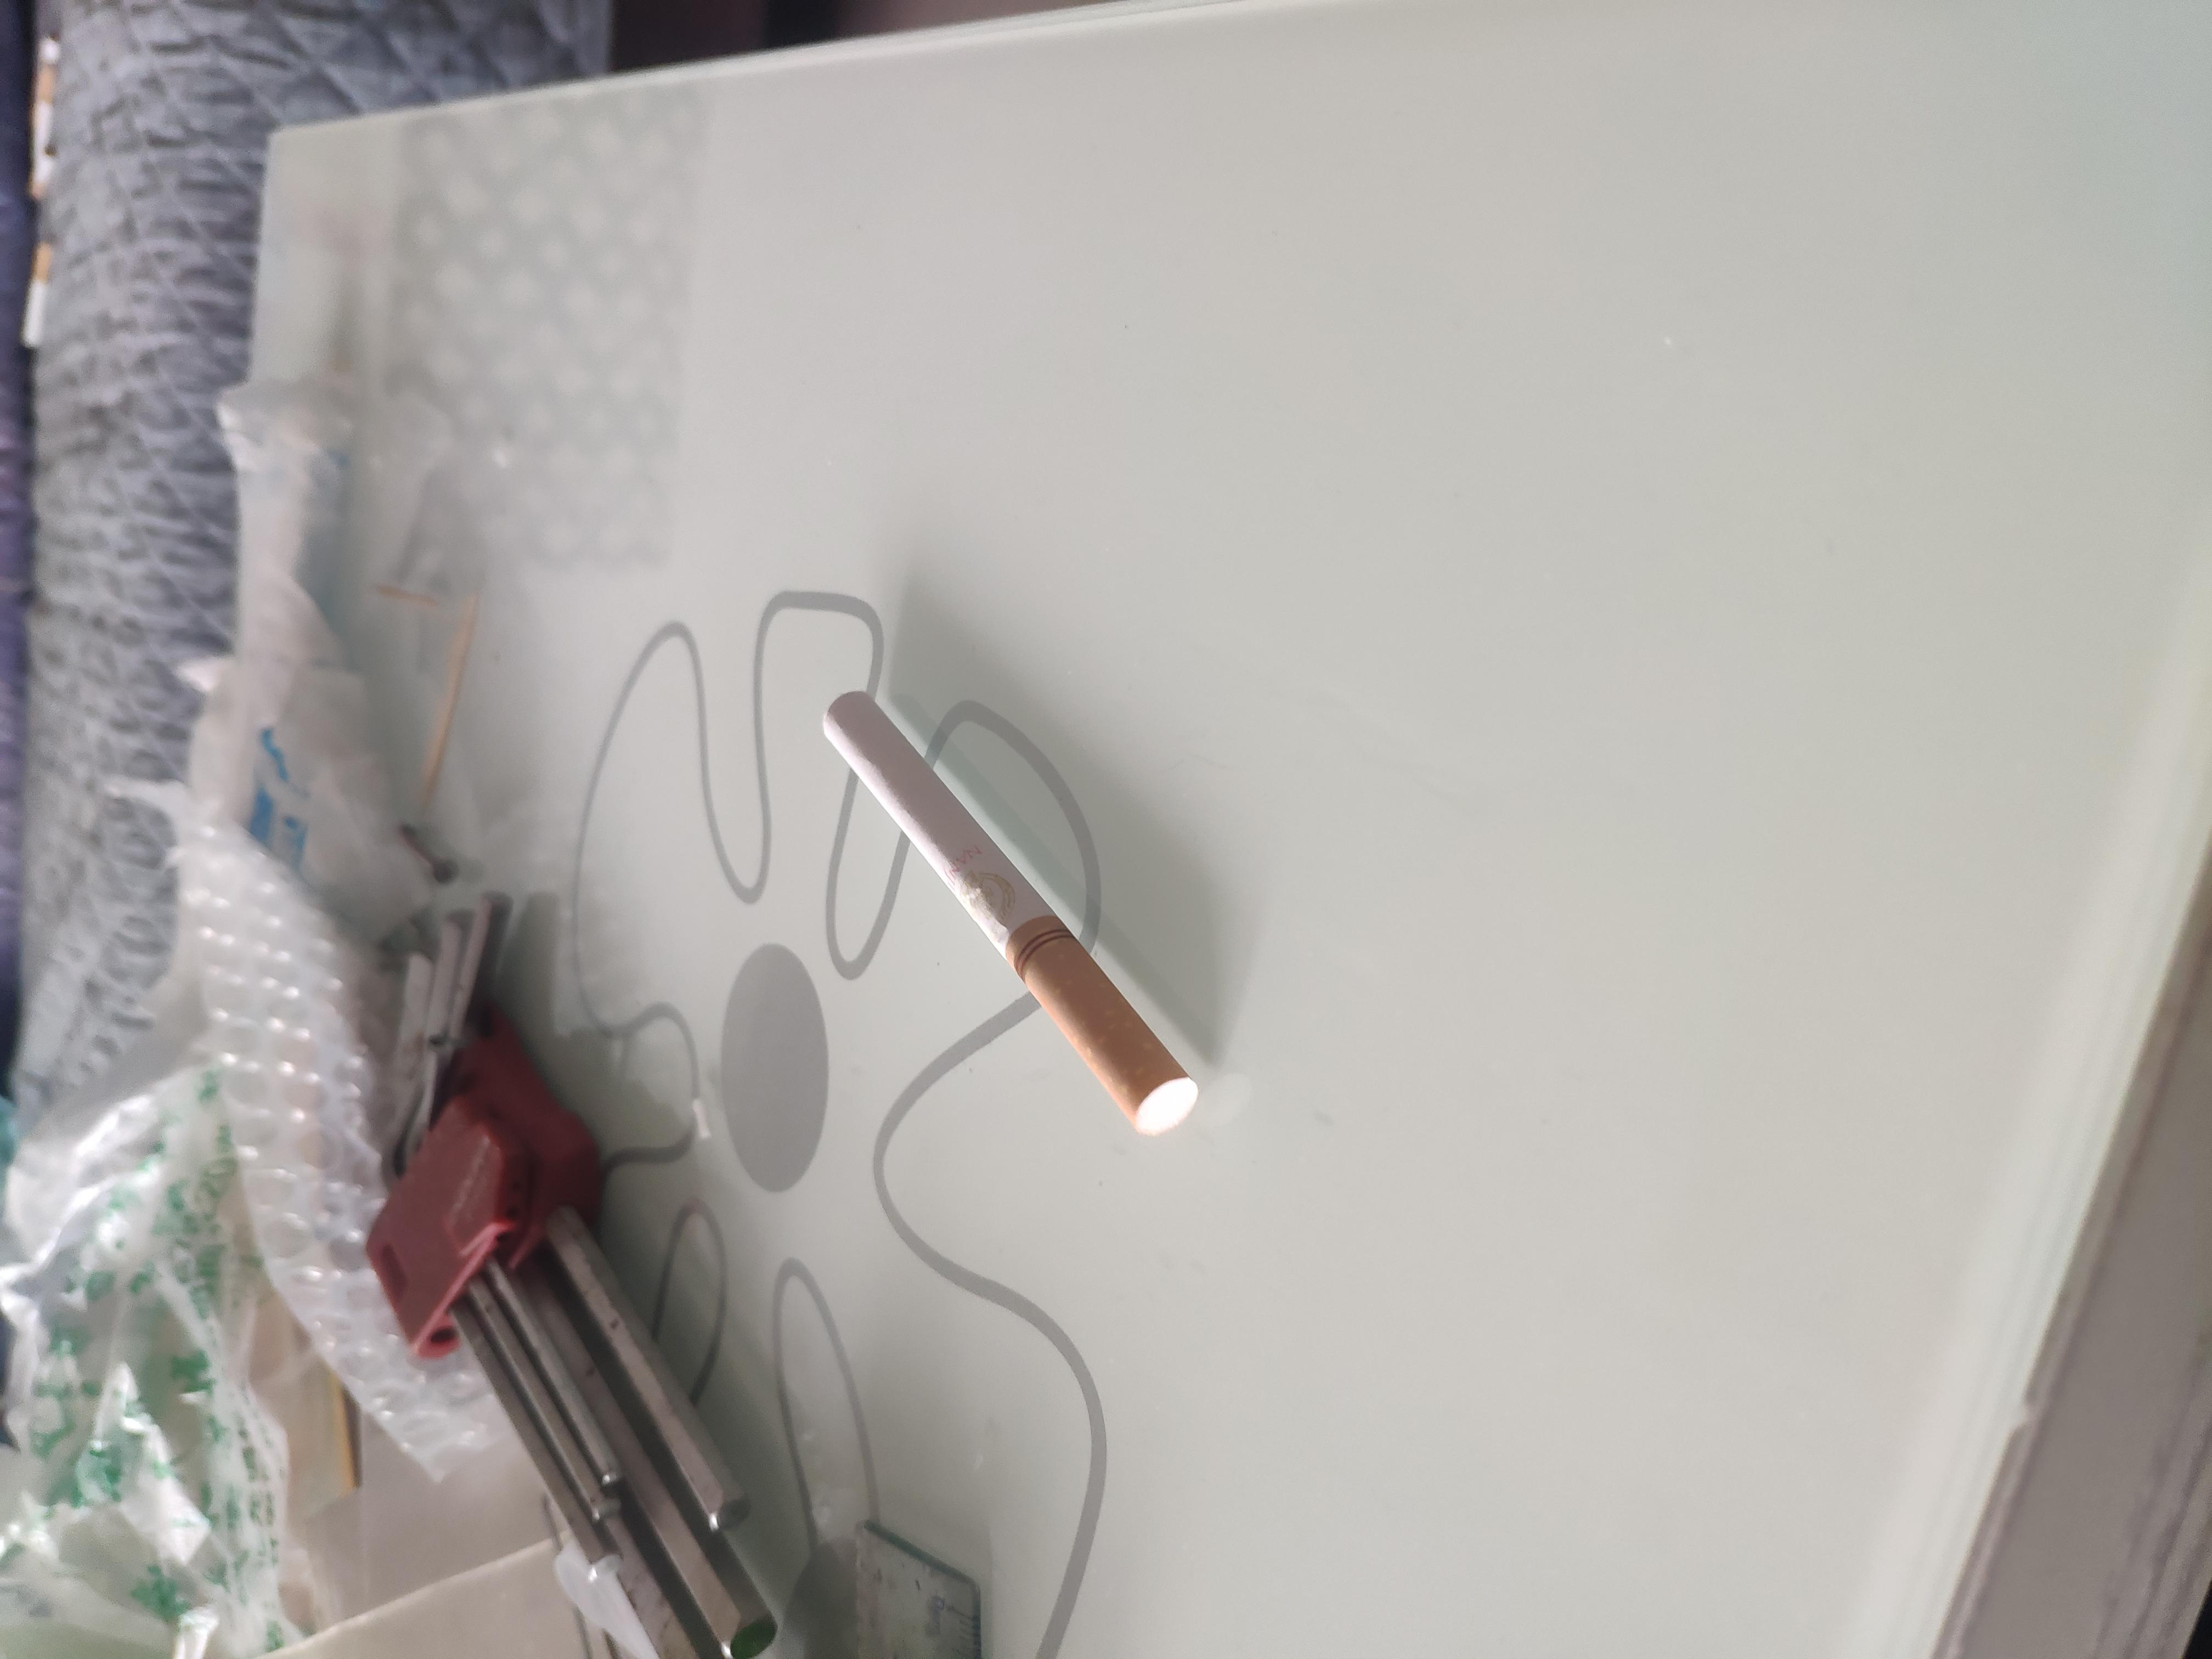smoke: (696, 613, 1299, 903)
